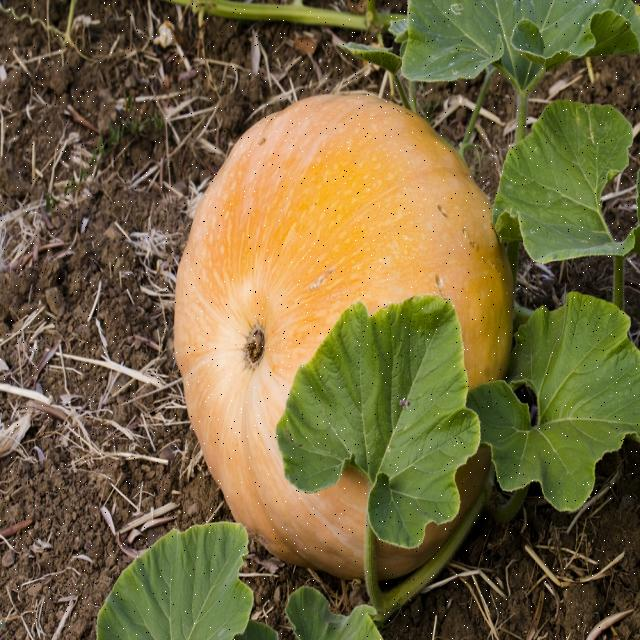Pumpkin: (134, 67, 528, 607)
